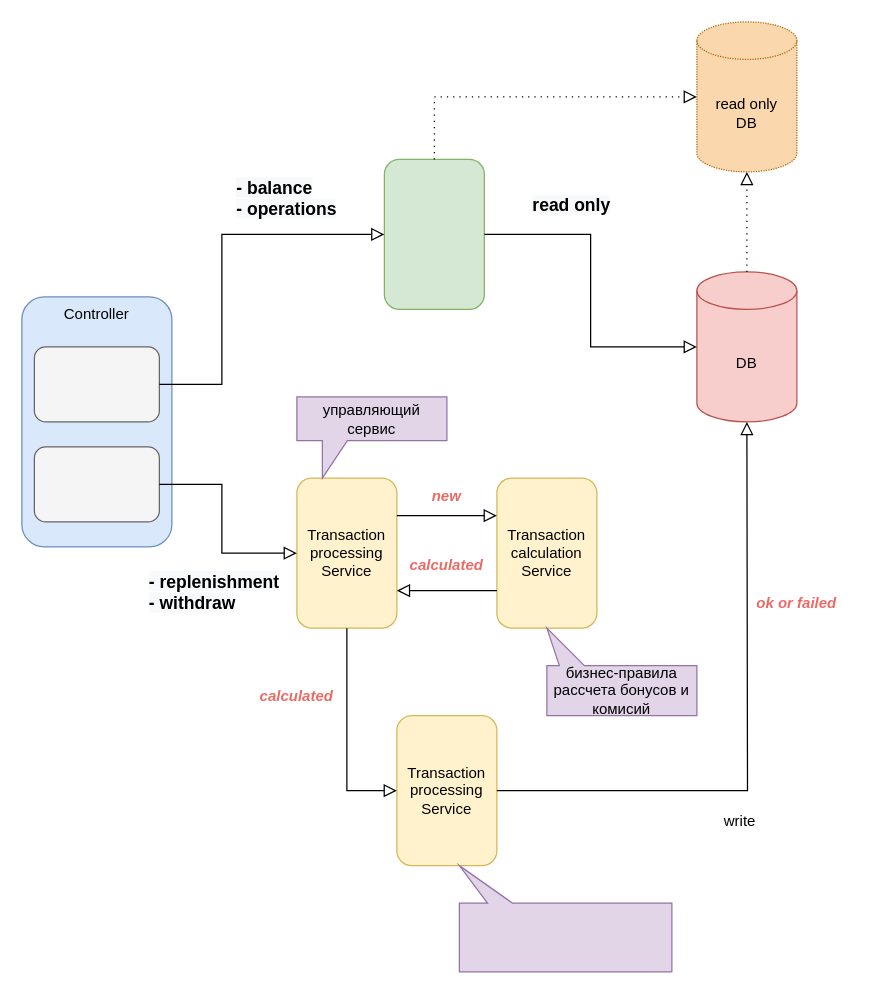
Image size: 869x994. Some labels were removed from this diagram. The centre of each missing label's shape, as x and y in pixels:
Account info Service: (433,233)
get: (96,384)
post: (96,484)
бизнес-правила валидации транзакции (напимер ест ли остаток на счете): (565,918)
